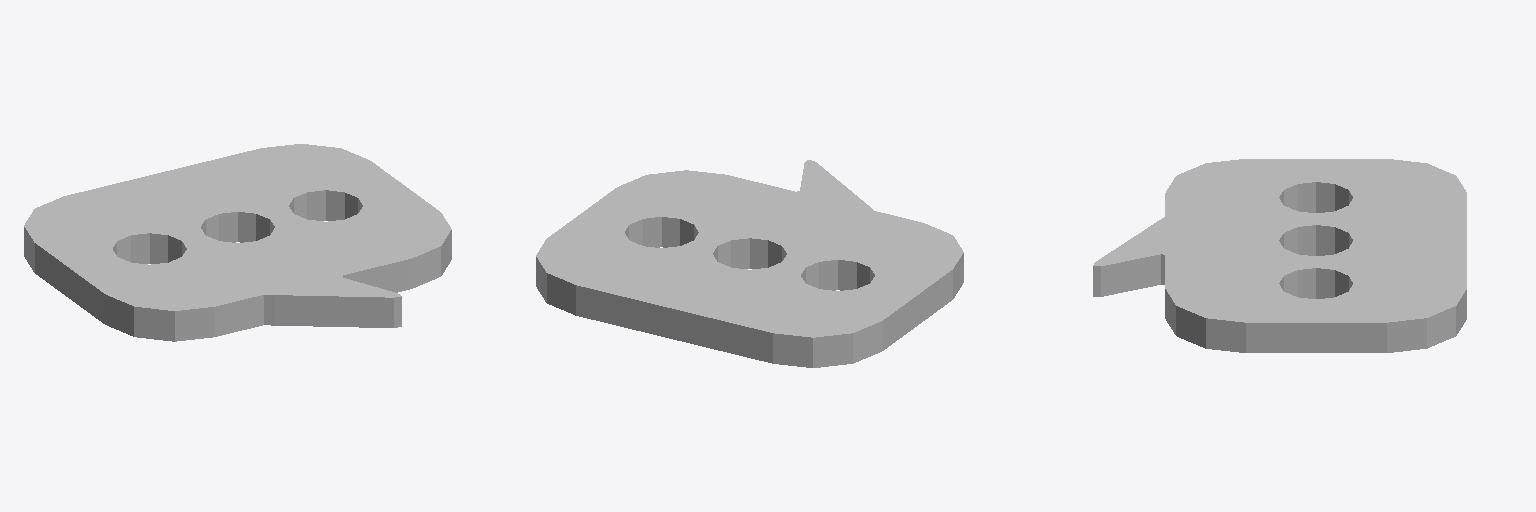
The model's file is message_low.obj.
3 renders of one model, left to right at view 1: azimuth 30°, elevation 25°; view 2: azimuth 150°, elevation 25°; view 3: azimuth 270°, elevation 25°, orthographic.
Parts seen in each view (by area): view 1: message; view 2: message; view 3: message.
Part boxes in pixels (bbox=[...]): message: bbox=[24, 144, 451, 341]; message: bbox=[536, 160, 963, 367]; message: bbox=[1093, 159, 1466, 352].
Bounding box in the file's own units: 40.03 × 3.48 × 38.6.